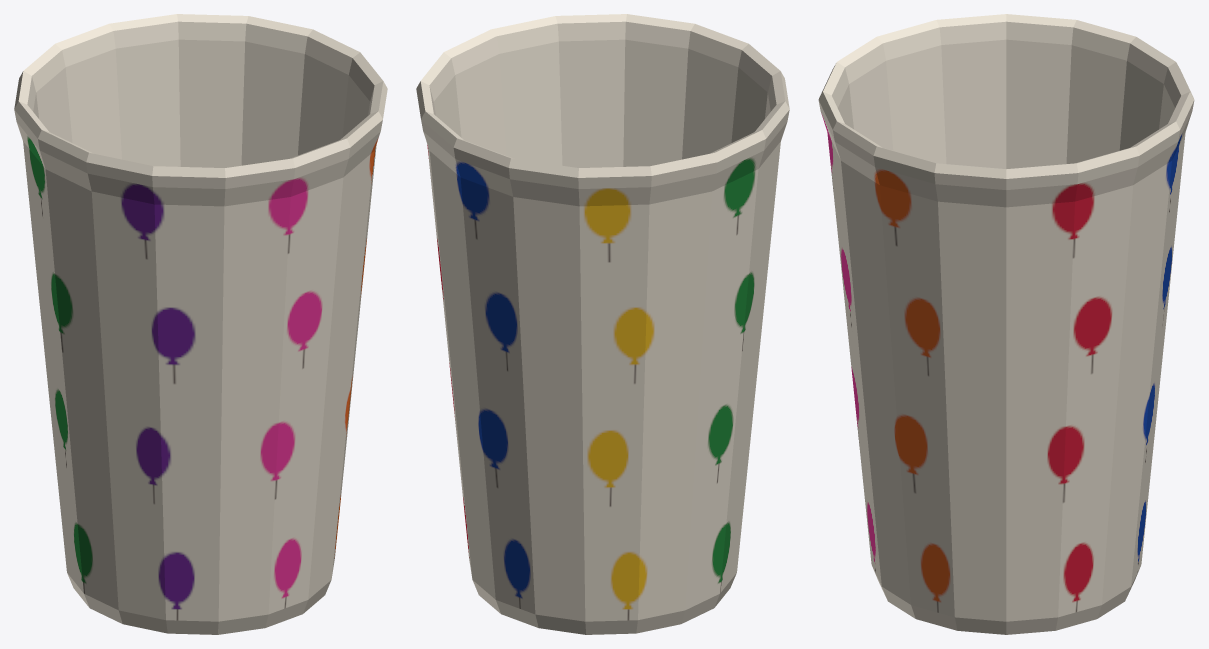
The model's file is party_cup_balloons.glb.
3 renders of one model, left to right at view 1: azimuth 30°, elevation 25°; view 2: azimuth 150°, elevation 25°; view 3: azimuth 270°, elevation 25°, orthographic.
Visible parts, largest first — view 1: party_cup_balloons; view 2: party_cup_balloons; view 3: party_cup_balloons.
Boxes of the visible parts, left/top/right/bottom form: party_cup_balloons: left=14, top=14, right=387, bottom=634; party_cup_balloons: left=416, top=14, right=789, bottom=634; party_cup_balloons: left=818, top=14, right=1194, bottom=634.
Bounding box in the file's own units: 0.085 × 0.122 × 0.085.
Materials: 1 (1 with a texture image).
